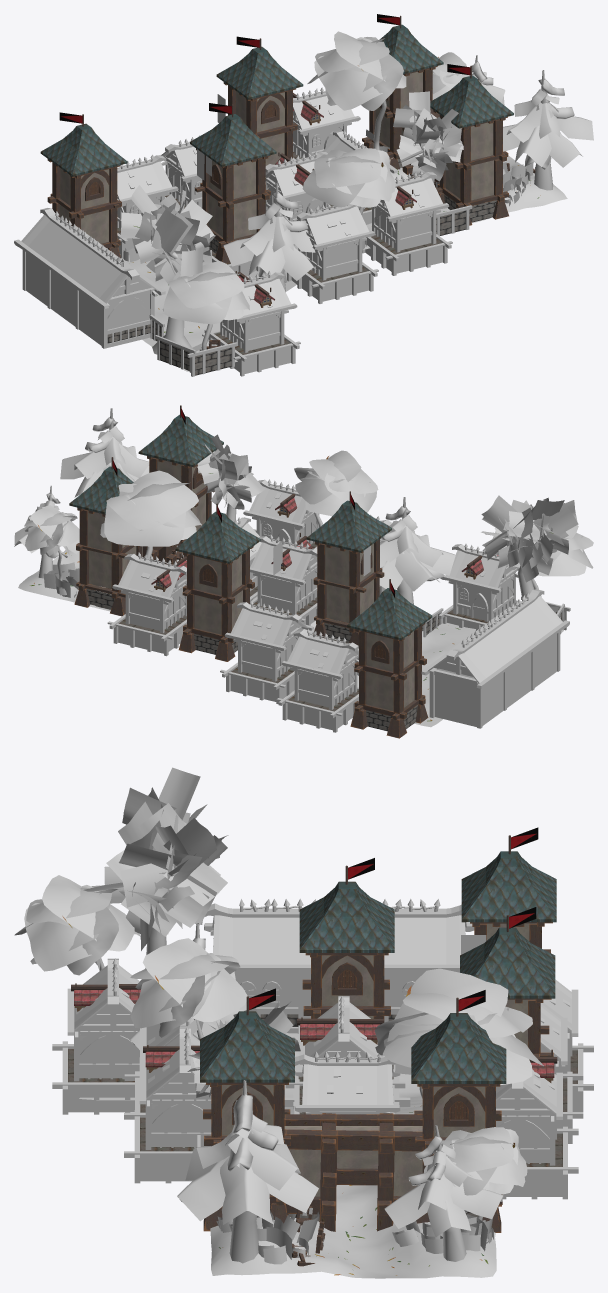
Rendered from cenario.fbx.
The picture shows the model from 3 angles, top to bottom: view 1: azimuth 30°, elevation 25°; view 2: azimuth 150°, elevation 25°; view 3: azimuth 270°, elevation 25°; orthographic projection. The views are drawn at different scales.
Visible parts, largest first — view 1: arvore_03|folha_03_a.021|Dupli|1, arvore_02.002|Plane.025|Dupli|4, arvore_01|Plane.034|Dupli|1, arvore_01.002|Plane.034|Dupli|1, arvore_02.001|Plane.025|Dupli|4, casa02|Cube.105|Dupli|6, arvore_03.001|folha_03_a.021|Dupli|1, arvore_02|Plane.025|Dupli|4, Plane, Torre.002|Cube.006|Dupli|5, Torre.004|Cube.006|Dupli|5, Torre.003|Cube.006|Dupli|5 (+42 smaller); view 2: arvore_02.002|Plane.025|Dupli|4, arvore_03|folha_03_a.021|Dupli|1, casa02|Cube.105|Dupli|6, arvore_01.002|Plane.034|Dupli|1, arvore_02.001|Plane.025|Dupli|4, arvore_01|Plane.034|Dupli|1, Plane, arvore_03.001|folha_03_a.021|Dupli|1, Torre.003|Cube.006|Dupli|5, Torre.002|Cube.006|Dupli|5, Torre.004|Cube.006|Dupli|5, Torre|Cube.006|Dupli|5 (+37 smaller); view 3: arvore_03|folha_03_a.021|Dupli|1, Plane, arvore_01|Plane.034|Dupli|1, arvore_02.002|Plane.025|Dupli|4, casa02|Cube.105|Dupli|6, arvore_02.001|Plane.025|Dupli|4, arvore_02|Plane.025|Dupli|4, Torre.002|Cube.006|Dupli|5, Torre|Cube.006|Dupli|5, arvore_01.001|Plane.034|Dupli|1, Torre.001|Cube.006|Dupli|5, Torre.004|Cube.006|Dupli|5 (+40 smaller).
Boxes of the visible parts, left/top/right/bottom form: arvore_03|folha_03_a.021|Dupli|1: left=120, top=184, right=215, bottom=285; arvore_02.002|Plane.025|Dupli|4: left=307, top=31, right=406, bottom=110; arvore_01|Plane.034|Dupli|1: left=503, top=78, right=593, bottom=169; arvore_01.002|Plane.034|Dupli|1: left=223, top=192, right=316, bottom=280; arvore_02.001|Plane.025|Dupli|4: left=302, top=148, right=395, bottom=207; casa02|Cube.105|Dupli|6: left=23, top=216, right=155, bottom=302; arvore_03.001|folha_03_a.021|Dupli|1: left=393, top=91, right=463, bottom=181; arvore_02|Plane.025|Dupli|4: left=162, top=261, right=249, bottom=324; Plane: left=121, top=155, right=567, bottom=371; Torre.002|Cube.006|Dupli|5: left=190, top=114, right=276, bottom=166; Torre.004|Cube.006|Dupli|5: left=40, top=123, right=127, bottom=176; Torre.003|Cube.006|Dupli|5: left=216, top=46, right=303, bottom=99; arvore_02.002|Plane.025|Dupli|4: left=100, top=470, right=201, bottom=546; arvore_03|folha_03_a.021|Dupli|1: left=481, top=495, right=578, bottom=582; casa02|Cube.105|Dupli|6: left=430, top=598, right=560, bottom=681; arvore_01.002|Plane.034|Dupli|1: left=379, top=506, right=455, bottom=591; arvore_02.001|Plane.025|Dupli|4: left=294, top=450, right=378, bottom=515; arvore_01|Plane.034|Dupli|1: left=60, top=417, right=149, bottom=497; Plane: left=18, top=549, right=563, bottom=727; arvore_03.001|folha_03_a.021|Dupli|1: left=197, top=434, right=264, bottom=509; Torre.003|Cube.006|Dupli|5: left=175, top=511, right=260, bottom=563; Torre.002|Cube.006|Dupli|5: left=306, top=500, right=391, bottom=552; Torre.004|Cube.006|Dupli|5: left=347, top=588, right=432, bottom=639; Torre|Cube.006|Dupli|5: left=138, top=414, right=223, bottom=466; arvore_03|folha_03_a.021|Dupli|1: left=83, top=767, right=228, bottom=950; Plane: left=79, top=1033, right=496, bottom=1278; arvore_01|Plane.034|Dupli|1: left=177, top=1094, right=318, bottom=1224; arvore_02.002|Plane.025|Dupli|4: left=374, top=968, right=543, bottom=1084; casa02|Cube.105|Dupli|6: left=231, top=908, right=446, bottom=972; arvore_02.001|Plane.025|Dupli|4: left=130, top=938, right=247, bottom=1037; arvore_02|Plane.025|Dupli|4: left=14, top=875, right=140, bottom=975; Torre.002|Cube.006|Dupli|5: left=299, top=881, right=394, bottom=952; Torre|Cube.006|Dupli|5: left=200, top=1011, right=294, bottom=1082; arvore_01.001|Plane.034|Dupli|1: left=384, top=1136, right=503, bottom=1237; Torre.001|Cube.006|Dupli|5: left=411, top=1013, right=506, bottom=1083; Torre.004|Cube.006|Dupli|5: left=461, top=851, right=556, bottom=922.
Size of the model in its own units: 4397 by 1627 by 2938.
